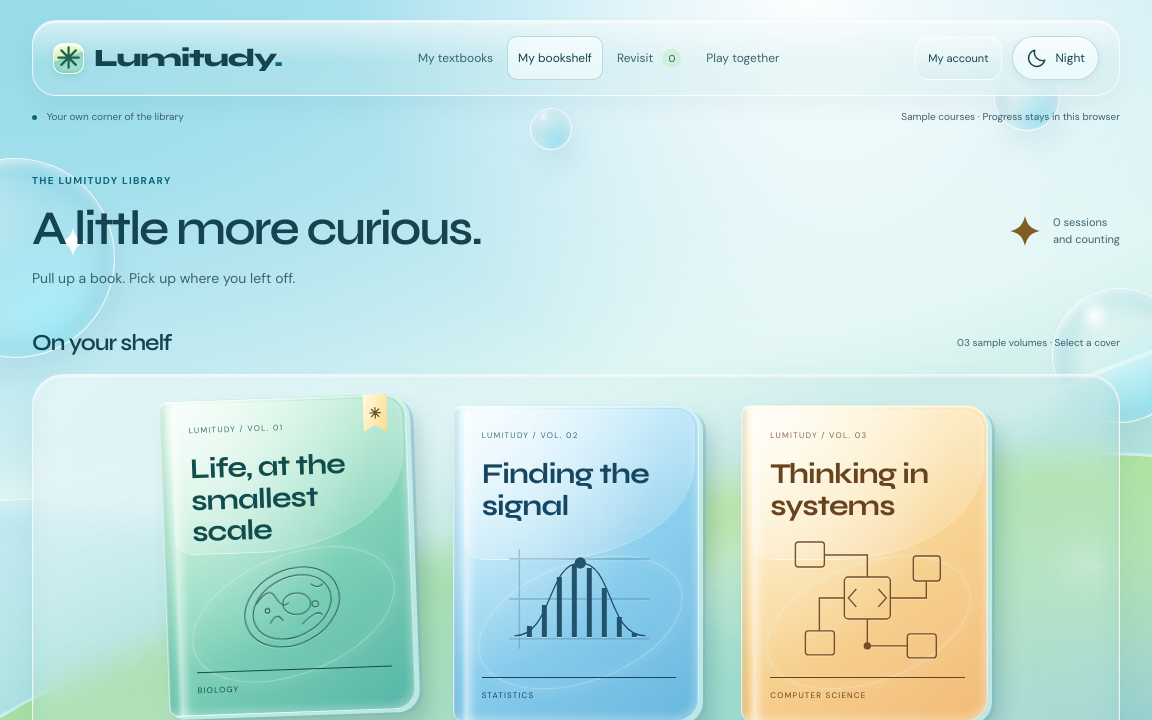
Test: keeps the account visible and explains a failed server logout
Expected: the button "My account" is shown, [915,36,1002,80]
Click the button "Play together": (743, 58) [695,36,790,80]
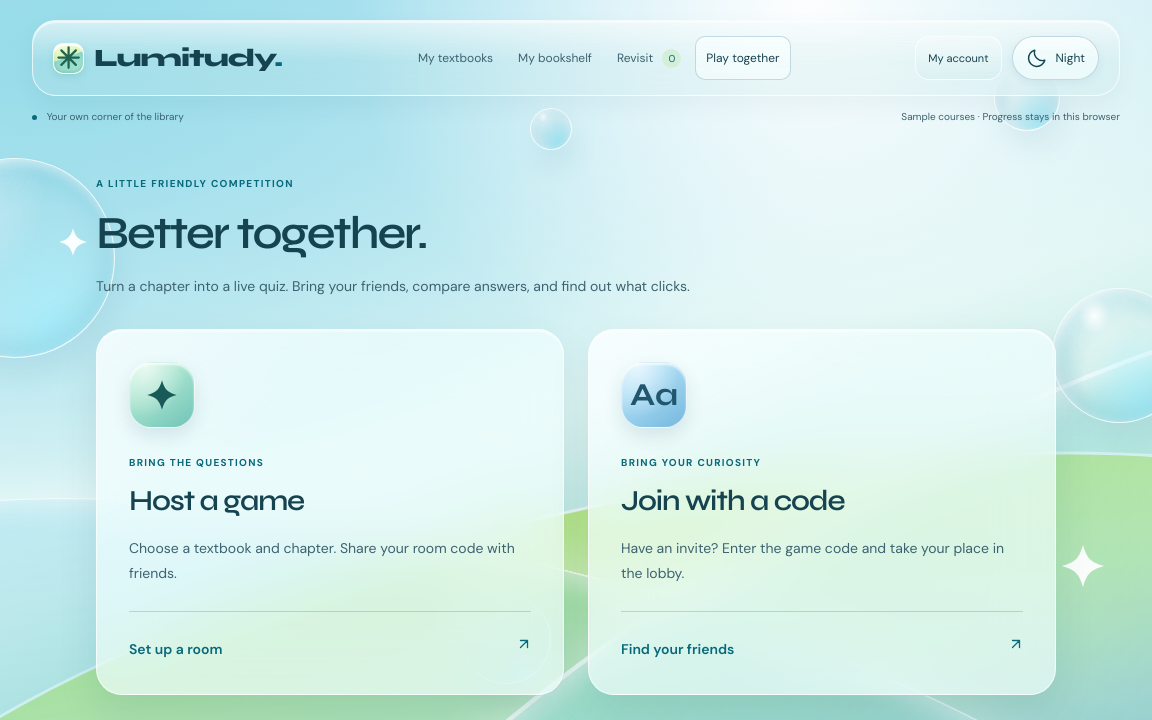
Click the button "My account": (958, 58) [915,36,1002,80]
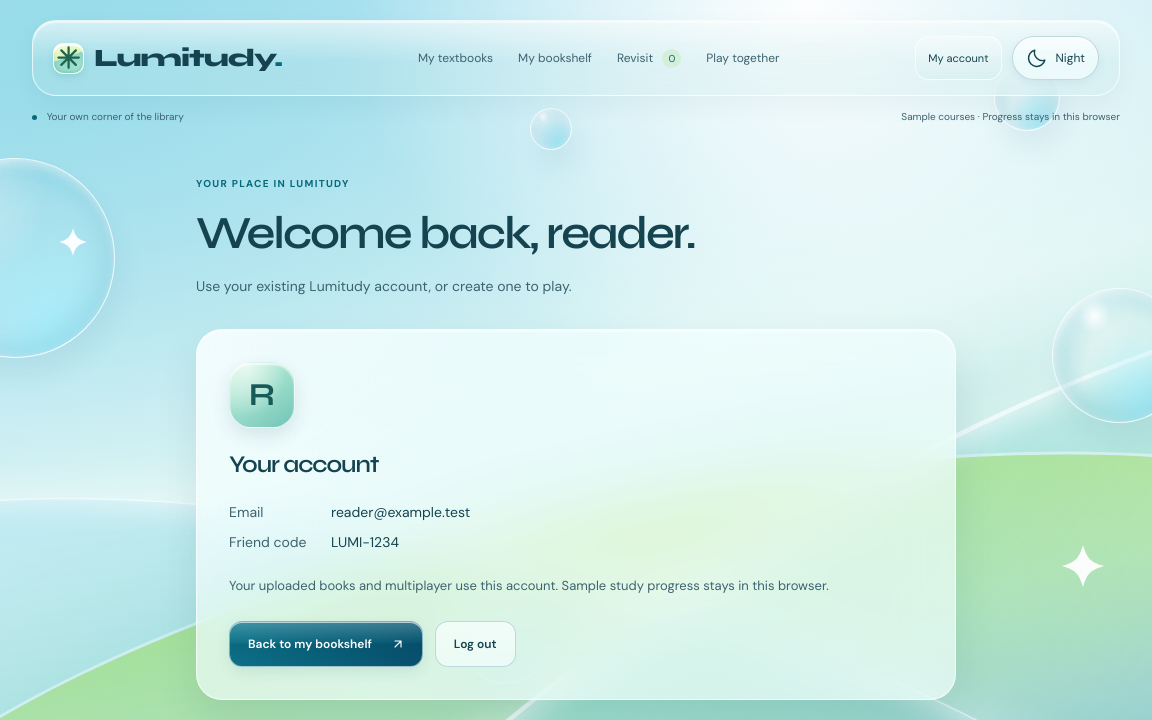
Click the button "Log out": (475, 644) [435,621,516,667]
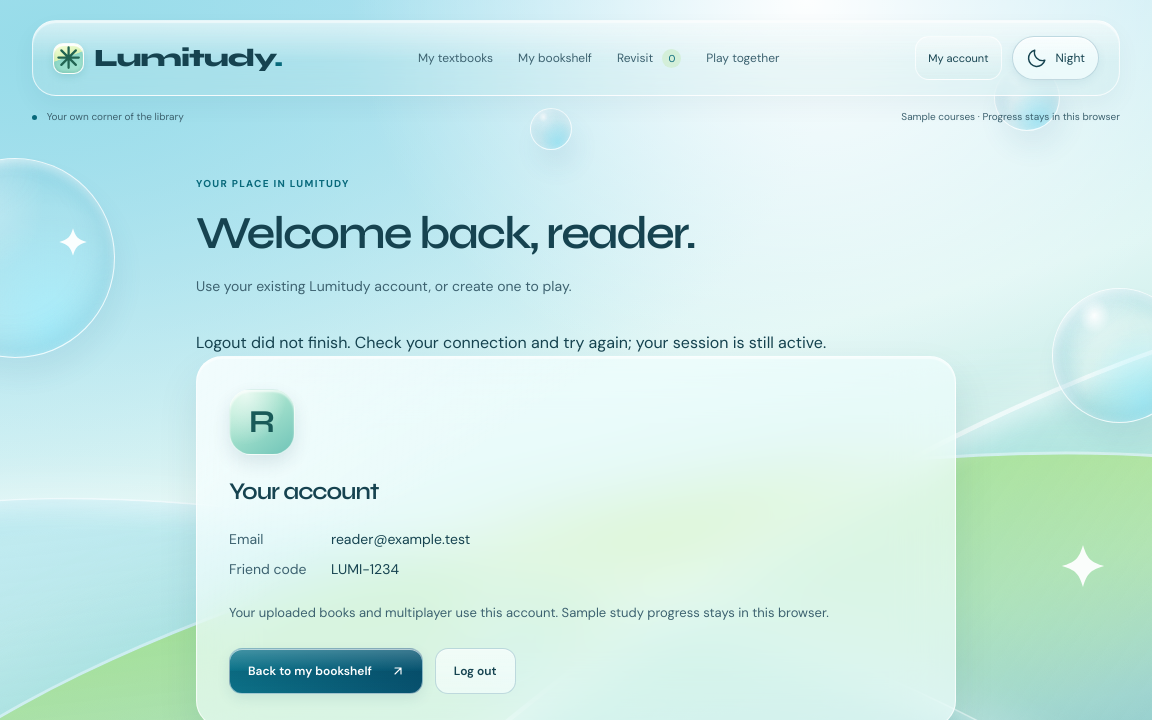
Result: the text "reader@example.test" is shown at [331,530,470,548]
Result: the message shows "session is still active" at [196,332,826,353]
